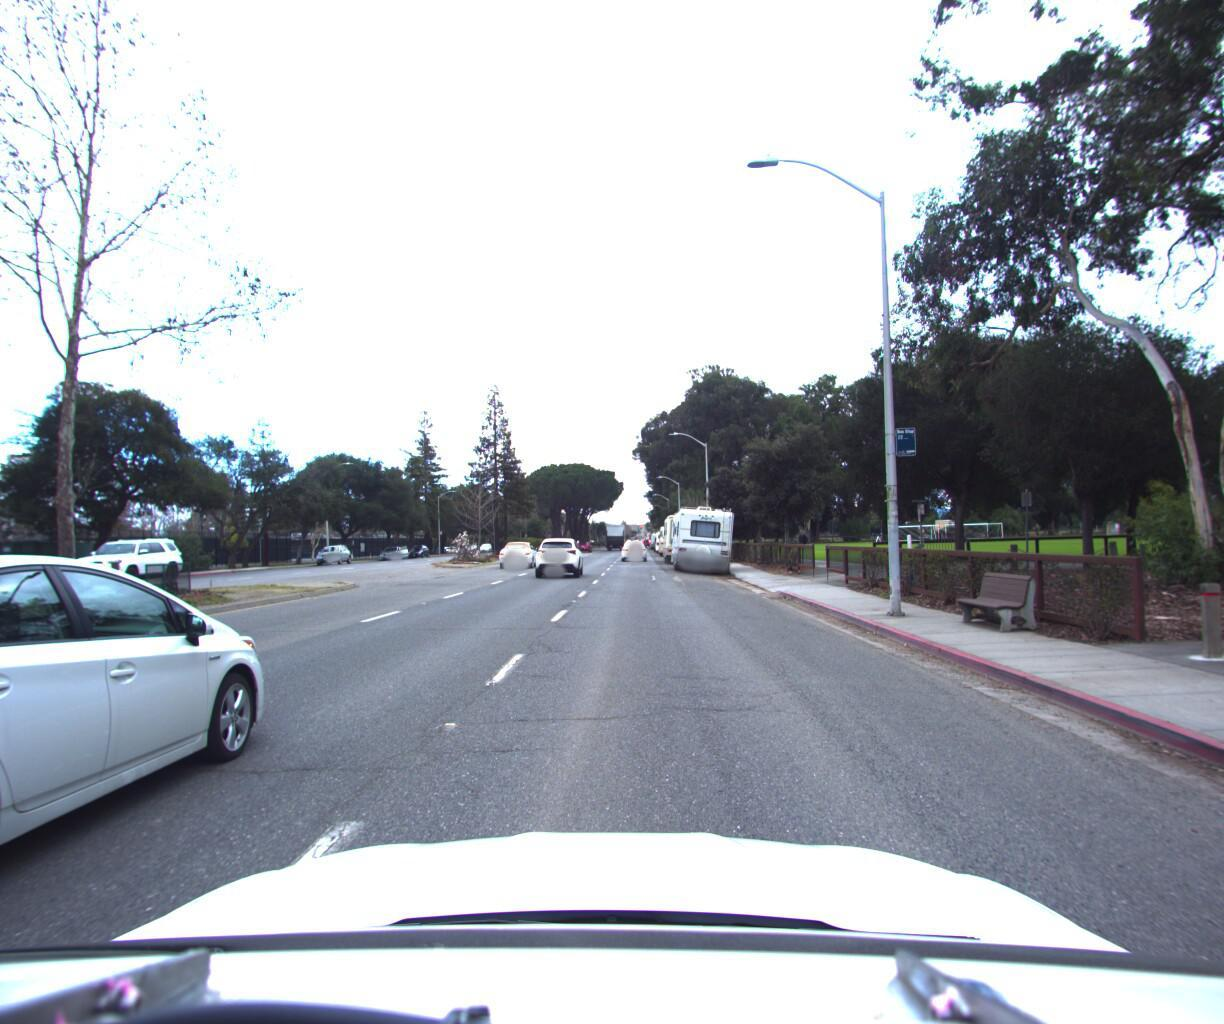car: (64, 538, 188, 589), (532, 533, 585, 573), (494, 535, 539, 566), (312, 539, 355, 563), (618, 534, 645, 557), (377, 540, 407, 558)
other_vehicle: (666, 498, 736, 573), (660, 504, 708, 563), (655, 516, 686, 552)
